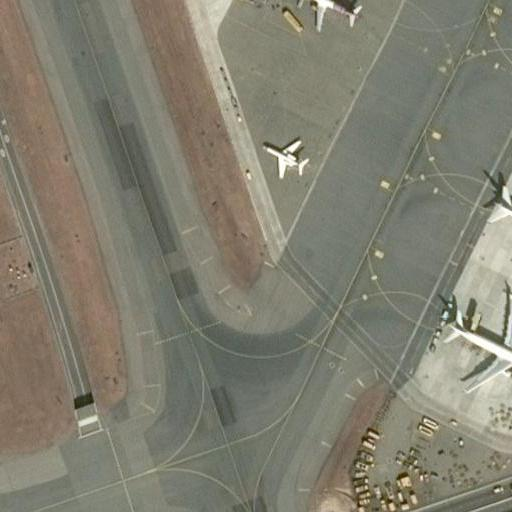Aircraft: (434, 283, 512, 392), (250, 126, 312, 183), (484, 163, 512, 274), (281, 0, 364, 33)
